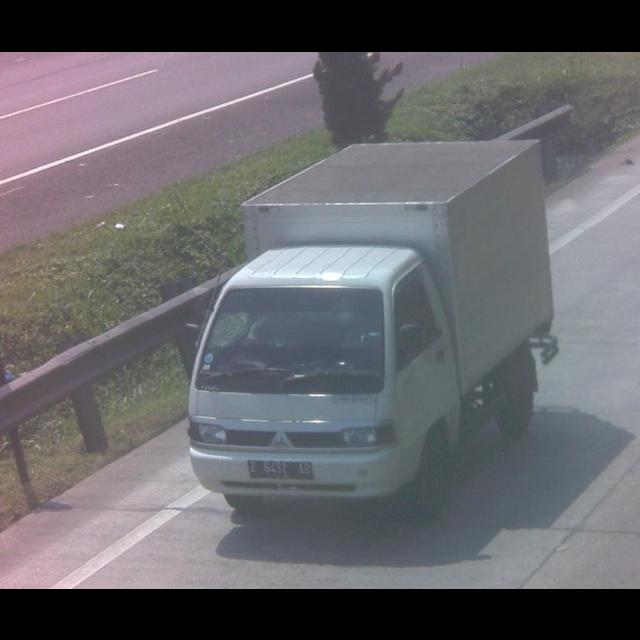plate: (248, 459, 312, 479)
